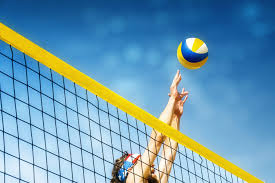ball: (176, 37, 209, 71)
